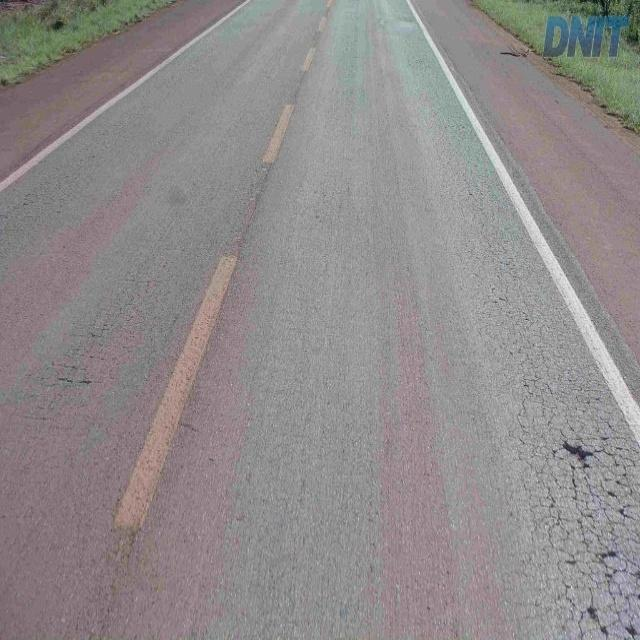pothole: (516, 400, 640, 640)
